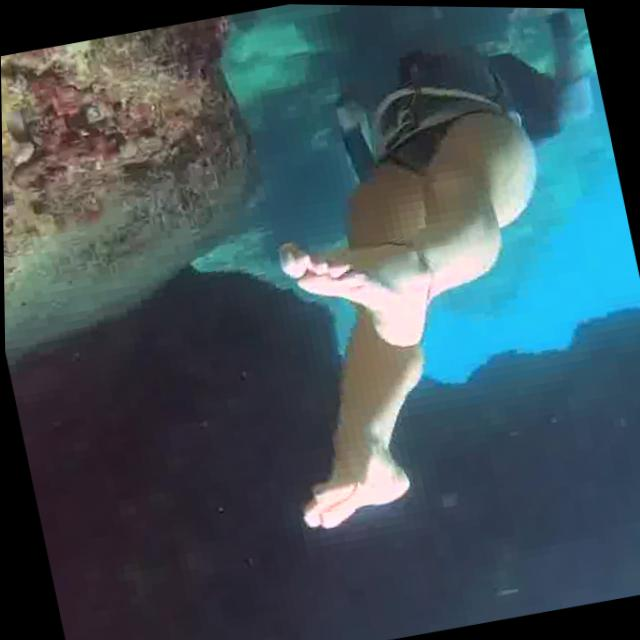human: (196, 2, 640, 559)
